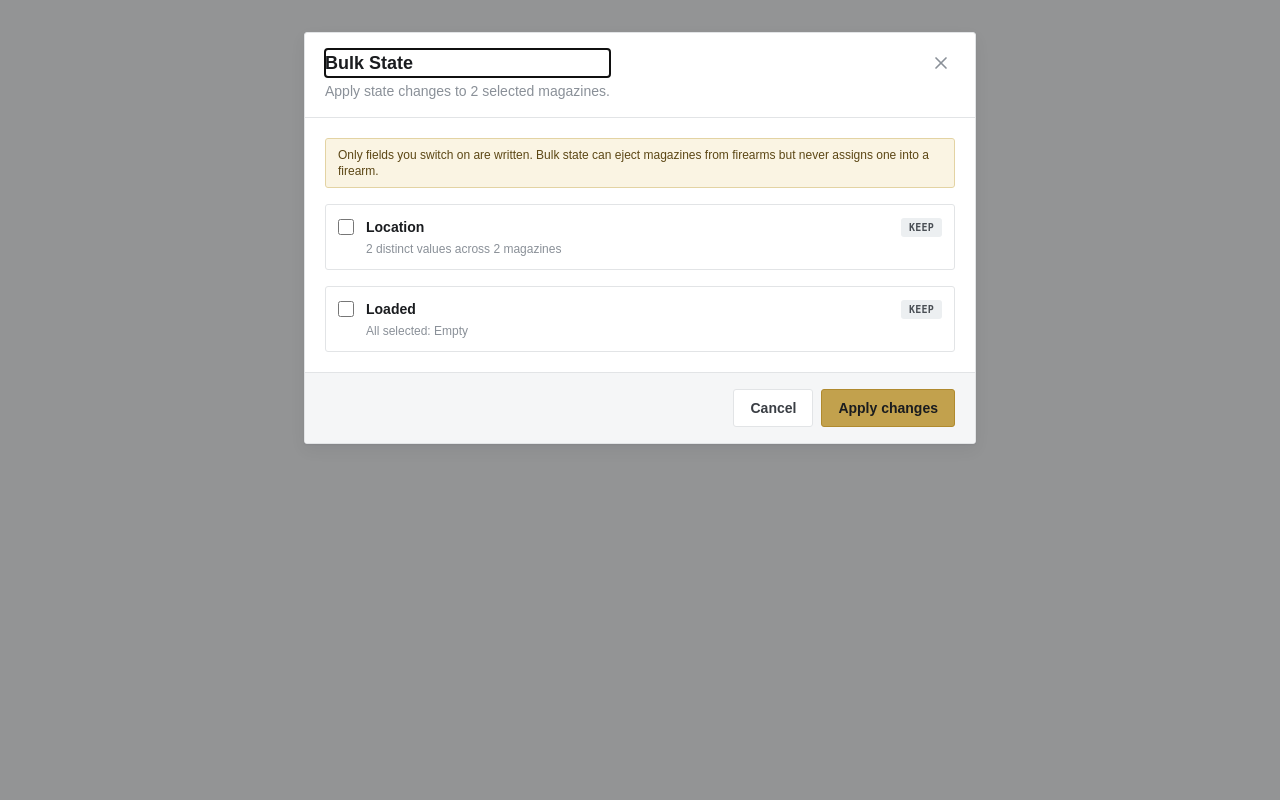
it: MagazineBulkStateModal › requires ammunition and rounds for a loaded state
Click the checkbox with id "bulk-magazine-state-contents-apply" at (346, 309), box [338,301,354,317]
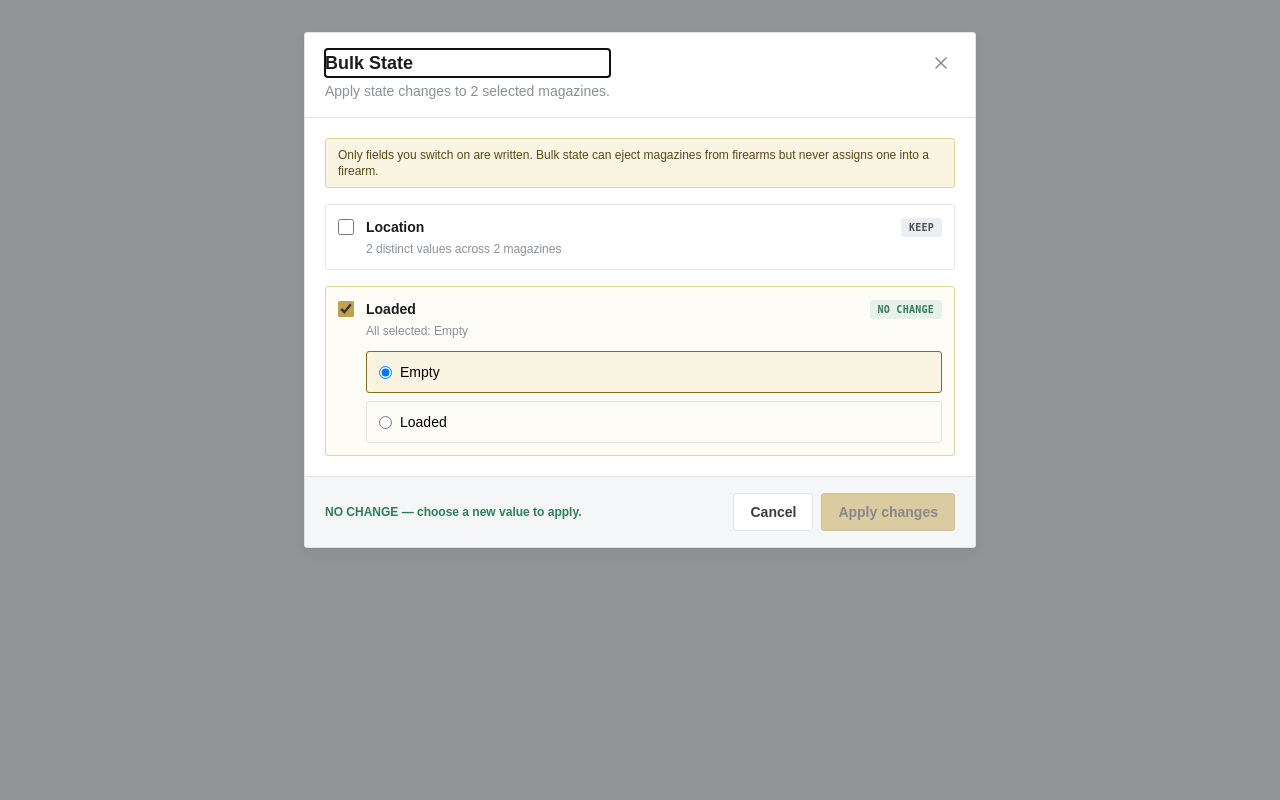
Click the radio button named "bulk-contents" at (386, 422), box [379,416,392,428]
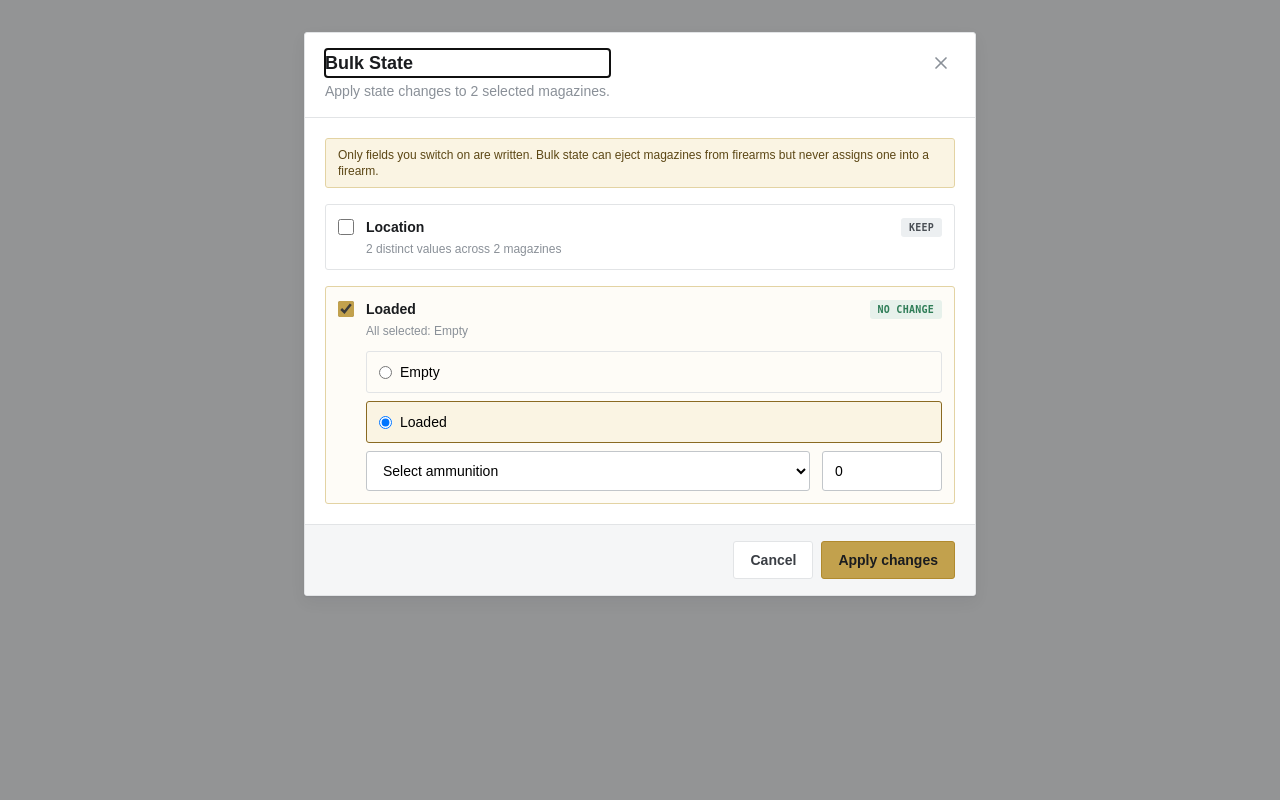
Click the button with test id "bulk-magazine-state-submit" at (888, 560), box [821,541,955,579]
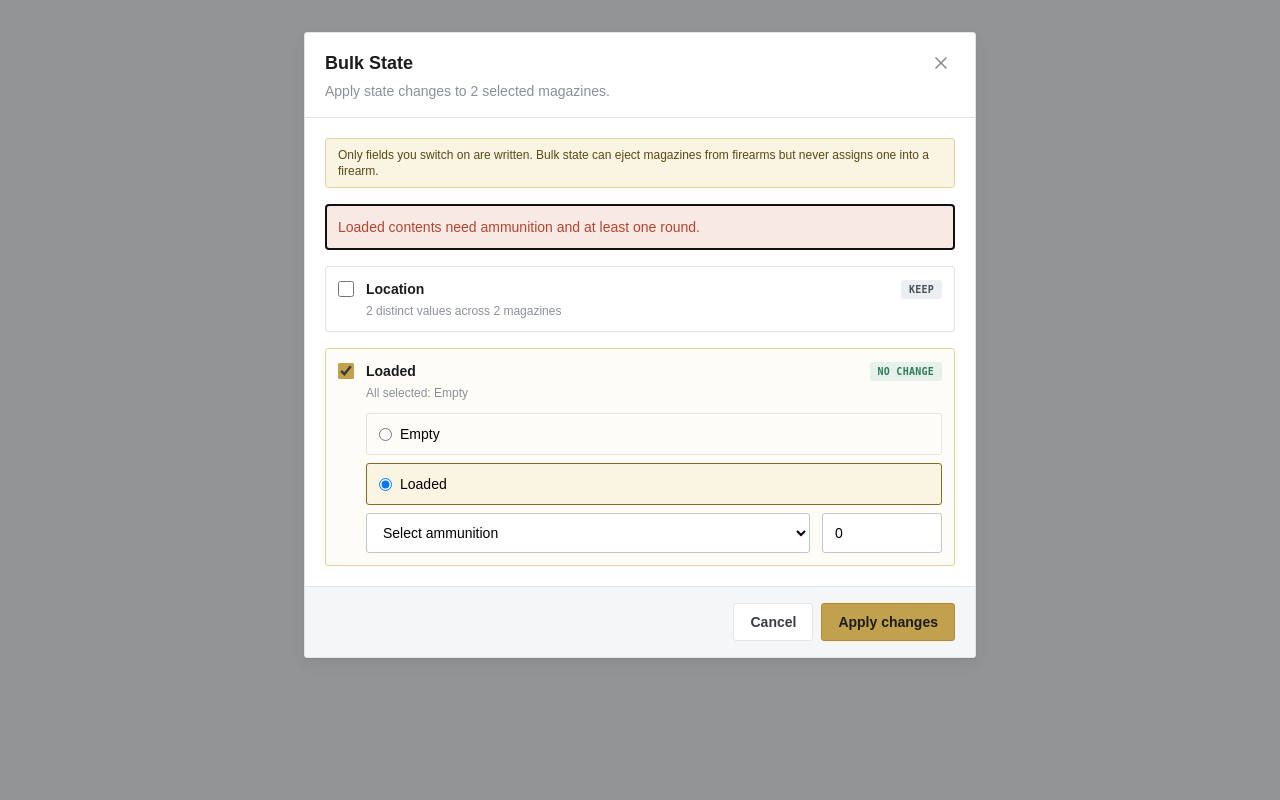
Expected: the message "Loaded contents need ammunition and at least one round." is shown, [325,204,955,250]
